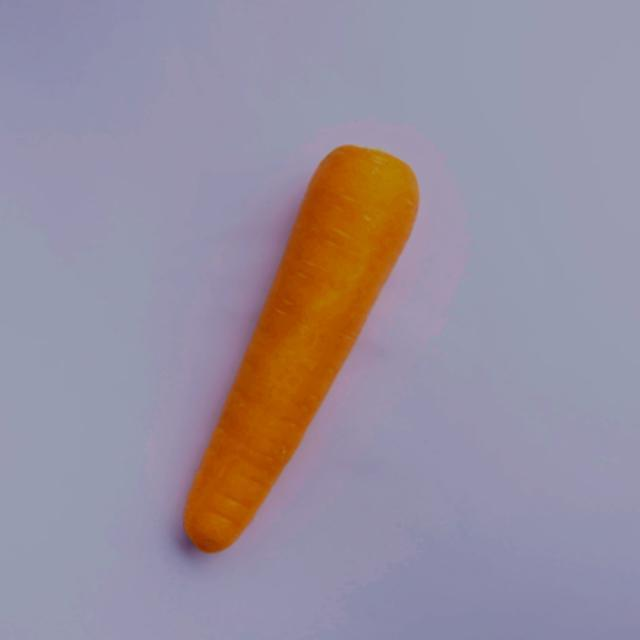carrot: (185, 145, 419, 552)
